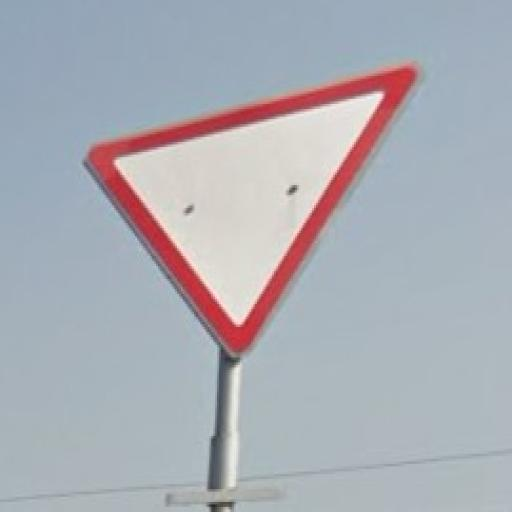traffic_sign: (85, 62, 425, 361)
